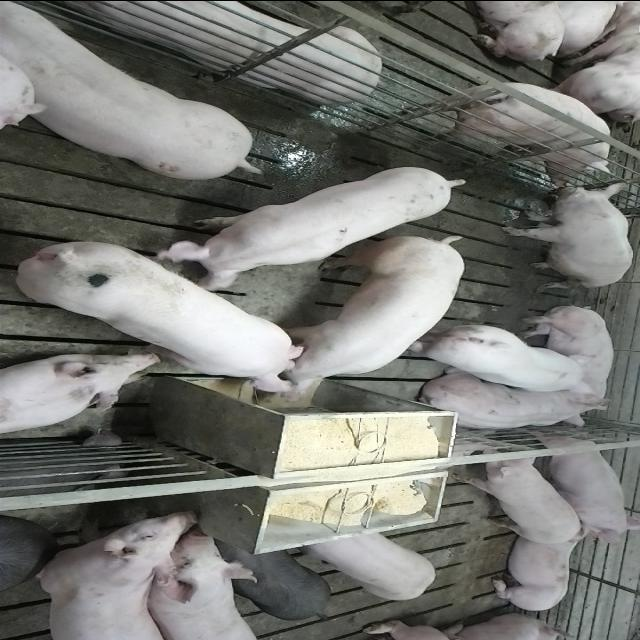Feeding: (16, 237, 306, 398), (258, 241, 470, 408)
Lateral_lying: (520, 304, 621, 414)
Sitting: (499, 180, 634, 286), (542, 436, 636, 544)
Standing: (5, 5, 265, 183), (154, 160, 464, 284), (30, 506, 204, 638), (410, 81, 614, 182), (401, 322, 591, 392), (145, 534, 264, 640), (452, 444, 578, 544), (208, 536, 332, 620), (301, 528, 437, 601), (0, 516, 52, 604)
Sternal_lying: (44, 0, 381, 100), (0, 353, 158, 437), (486, 521, 590, 612)
